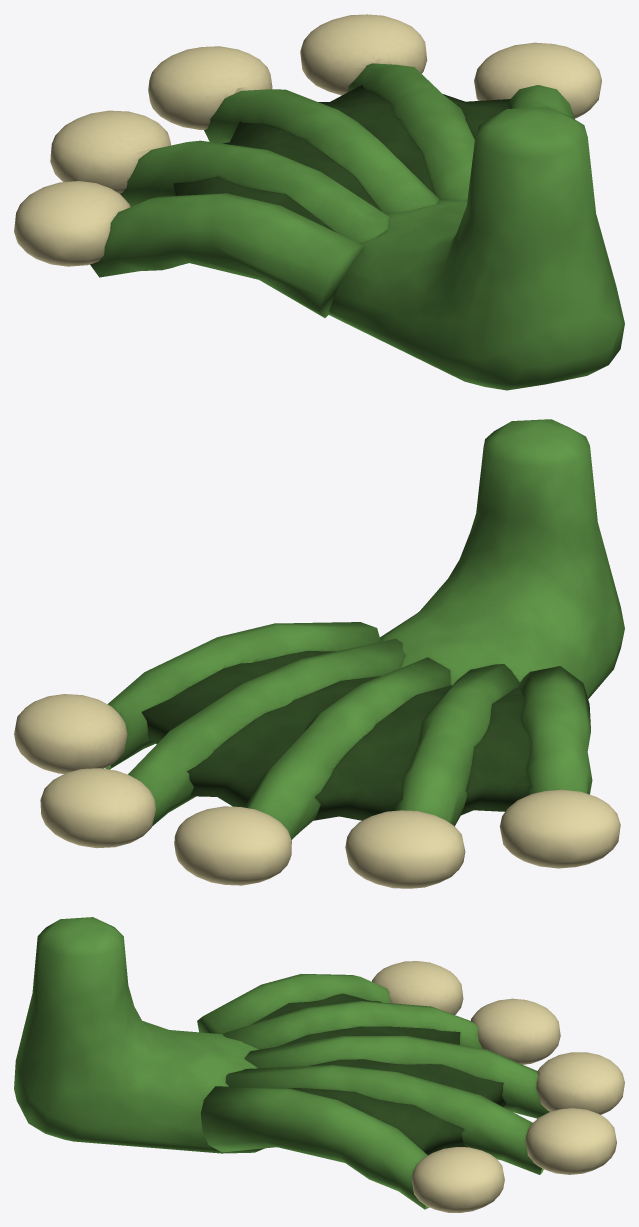
File: cpart_foot_frog.glb
The picture shows the model from 3 angles, top to bottom: view 1: azimuth 30°, elevation 25°; view 2: azimuth 150°, elevation 25°; view 3: azimuth 270°, elevation 25°; orthographic projection. The views are drawn at different scales.
Visible parts, largest first — view 1: FootFrog, Pads, Web; view 2: FootFrog, Pads, Web; view 3: FootFrog, Pads, Web.
Boxes of the visible parts, x1=… form: FootFrog: x1=90, y1=63, x2=624, y2=390; Pads: x1=14, y1=14, x2=601, y2=266; Web: x1=173, y1=85, x2=511, y2=232; FootFrog: x1=105, y1=419, x2=624, y2=839; Pads: x1=14, y1=694, x2=620, y2=888; Web: x1=141, y1=651, x2=531, y2=820; FootFrog: x1=14, y1=917, x2=550, y2=1209; Pads: x1=372, y1=961, x2=624, y2=1212; Web: x1=252, y1=993, x2=506, y2=1155.
Bounding box in the file's own units: 0.1058 × 0.042 × 0.1205.
3 materials, 3 textured.
